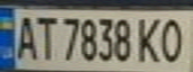3: (97, 15, 118, 62)
7: (57, 14, 81, 62)
8: (112, 15, 136, 63), (78, 15, 100, 62)
A: (12, 11, 39, 61)
K: (133, 13, 163, 64)
O: (157, 13, 190, 64)
T: (33, 11, 57, 61)
